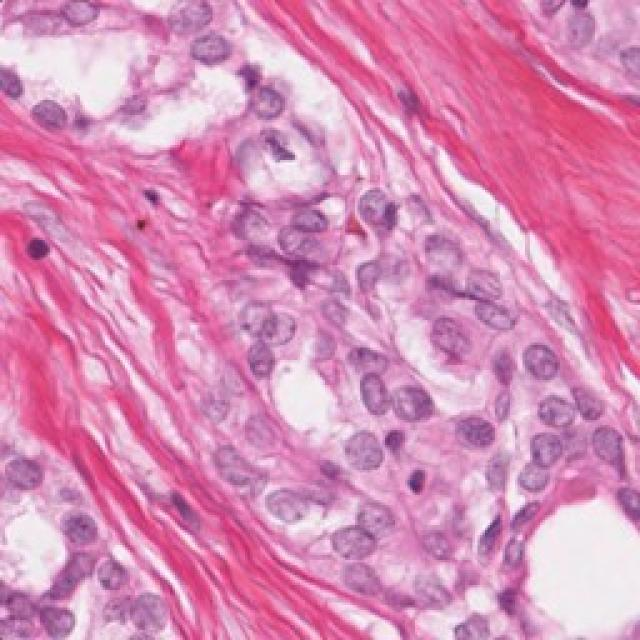abnormal: (341, 162, 411, 248), (514, 371, 594, 446), (496, 443, 581, 513), (330, 350, 407, 422), (223, 282, 293, 355), (333, 550, 395, 622), (350, 472, 402, 556), (234, 73, 309, 130), (512, 320, 565, 400), (274, 197, 349, 253), (18, 90, 80, 157), (332, 422, 392, 488), (326, 503, 386, 567), (460, 253, 517, 320), (258, 473, 314, 540), (30, 0, 105, 50), (380, 367, 433, 435), (167, 0, 230, 50), (185, 22, 235, 83), (452, 404, 503, 459)
